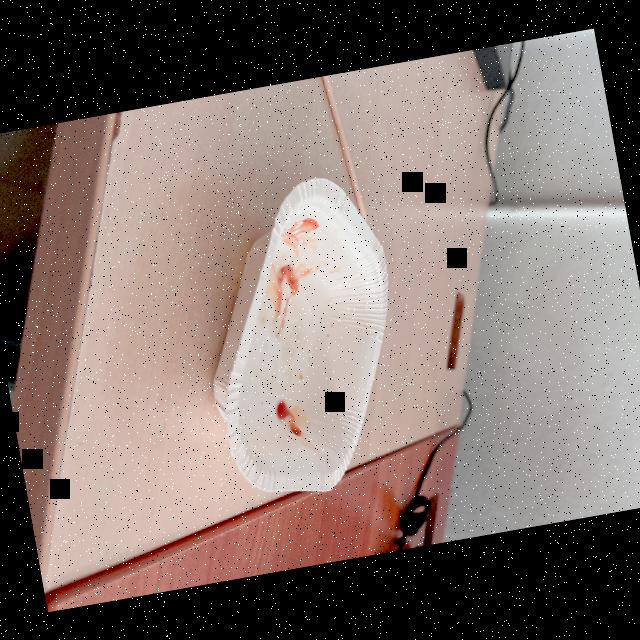cardboard_bowl: (170, 161, 430, 517)
stick: (309, 72, 372, 226)
